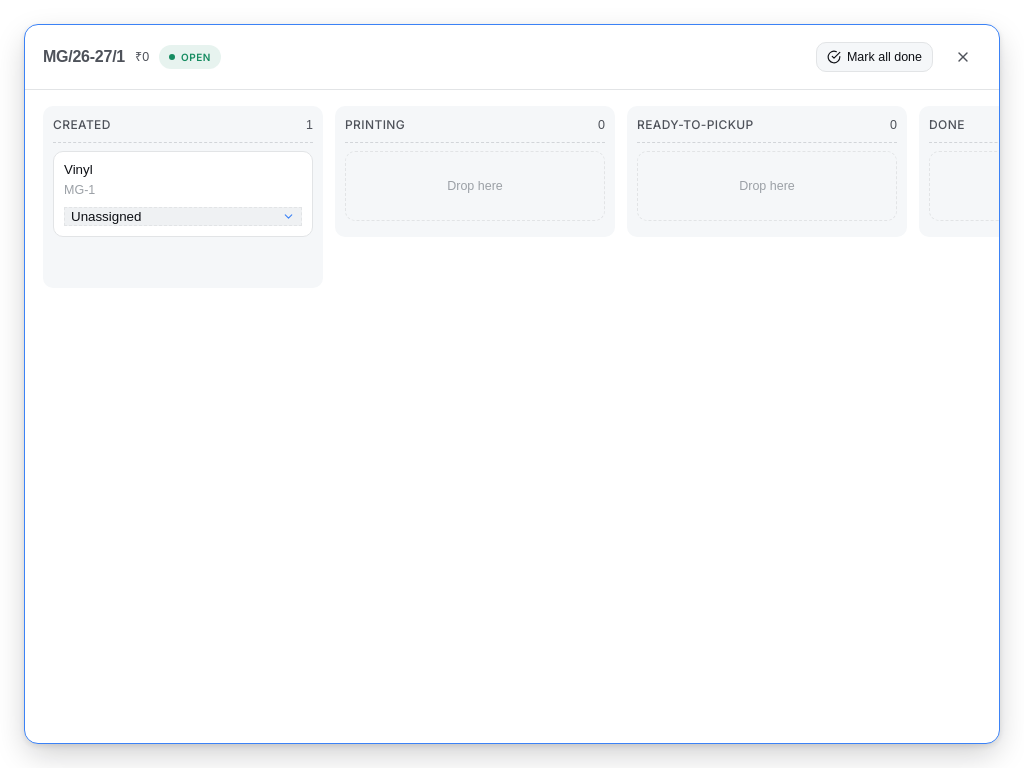
Scenario: assigning from the board › opens the editor from the card's name
The width and height of the screenshot is (1024, 768).
The name now carries the size too, so an exact match no longer describes it.
Click the button "Vinyl" at (183, 170), box x1=64 y1=162 x2=302 y2=177
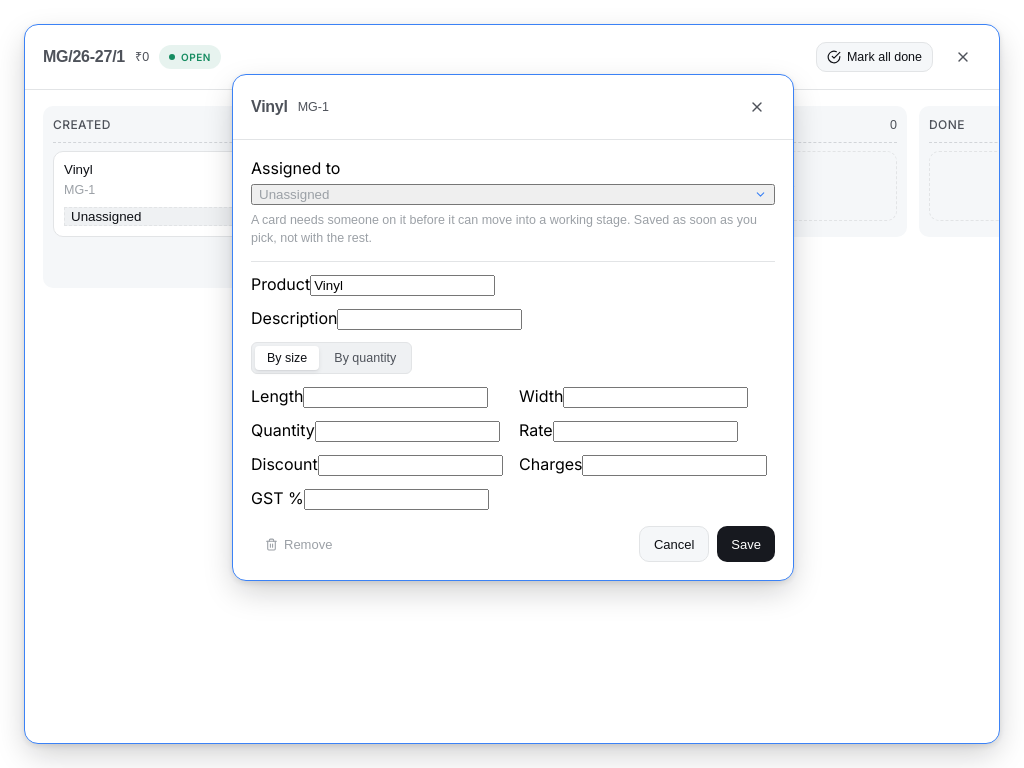
Result: the field labelled "Product" is shown at x1=310 y1=275 x2=495 y2=296
Result: the number field labelled "Quantity" is shown at x1=315 y1=421 x2=500 y2=442
